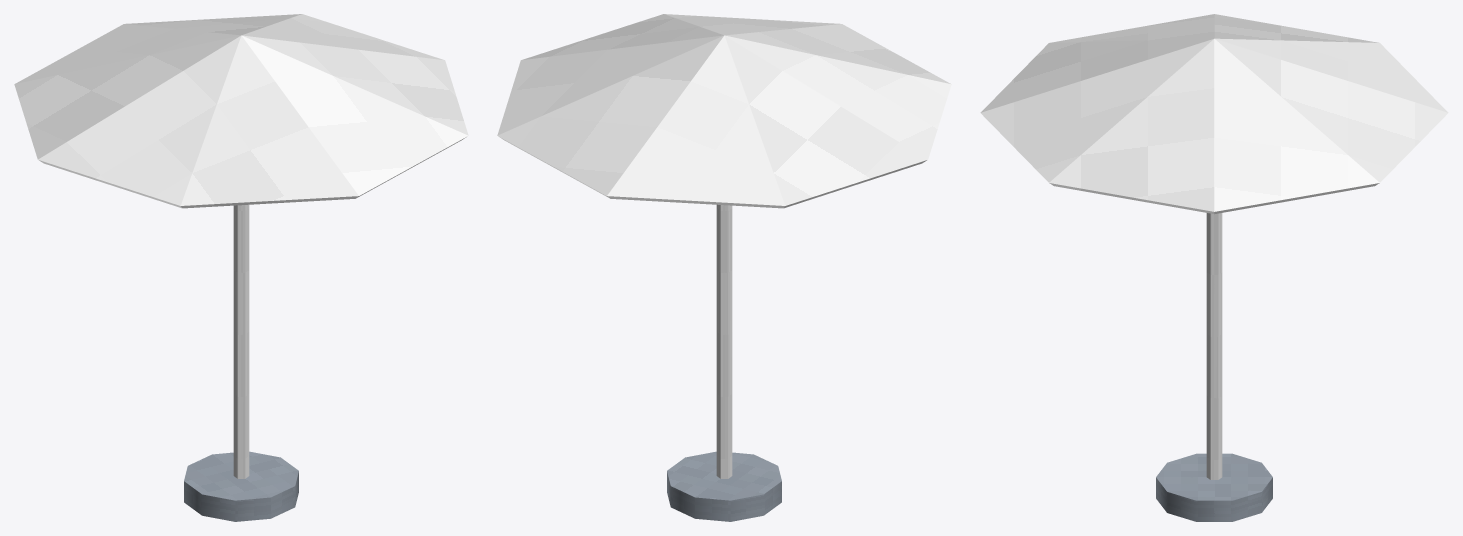
The model's file is p_ai_umbrella.glb.
3 views of the same model, side by side, from view 1: azimuth 30°, elevation 25°; view 2: azimuth 150°, elevation 25°; view 3: azimuth 270°, elevation 25° (orthographic).
Parts seen in each view (by area): view 1: p_ai_umbrella_lod0; view 2: p_ai_umbrella_lod0; view 3: p_ai_umbrella_lod0.
Part boxes in pixels (x1,y1,x2,y2): p_ai_umbrella_lod0: (14,14,468,521); p_ai_umbrella_lod0: (497,14,951,521); p_ai_umbrella_lod0: (980,14,1448,521).
Size of what is drawn, in the model's own units: 2.4 by 2.6 by 2.4.
2 materials, 2 textured.
